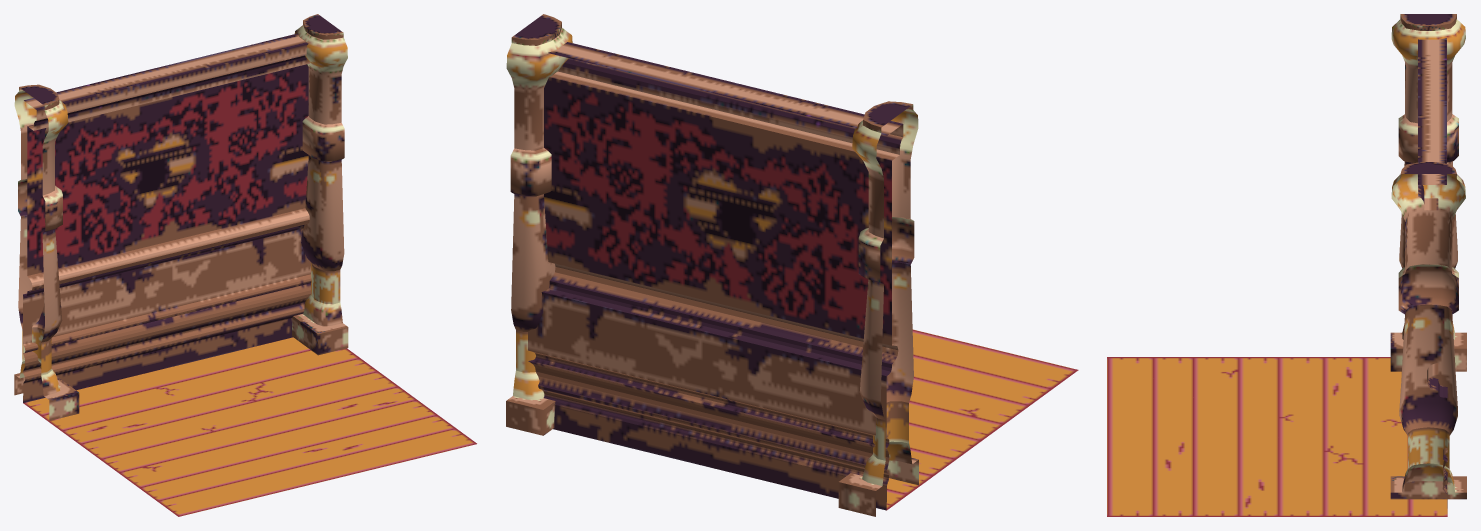
File: tile_wall_v2.fbx
3 renders of one model, left to right at view 1: azimuth 30°, elevation 25°; view 2: azimuth 150°, elevation 25°; view 3: azimuth 270°, elevation 25°, orthographic. The views are drawn at different scales.
Visible parts, largest first — view 1: tile_wall_v2; view 2: tile_wall_v2; view 3: tile_wall_v2.
Boxes of the visible parts, x1,y1,x2,y2 form: tile_wall_v2: [14, 14, 476, 516]; tile_wall_v2: [506, 14, 1078, 516]; tile_wall_v2: [1107, 14, 1466, 516].
Size of the model in its own units: 200 by 200 by 190.
